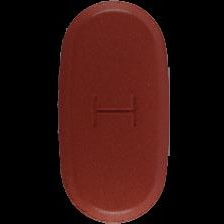65862-548: (0, 0, 224, 224)
